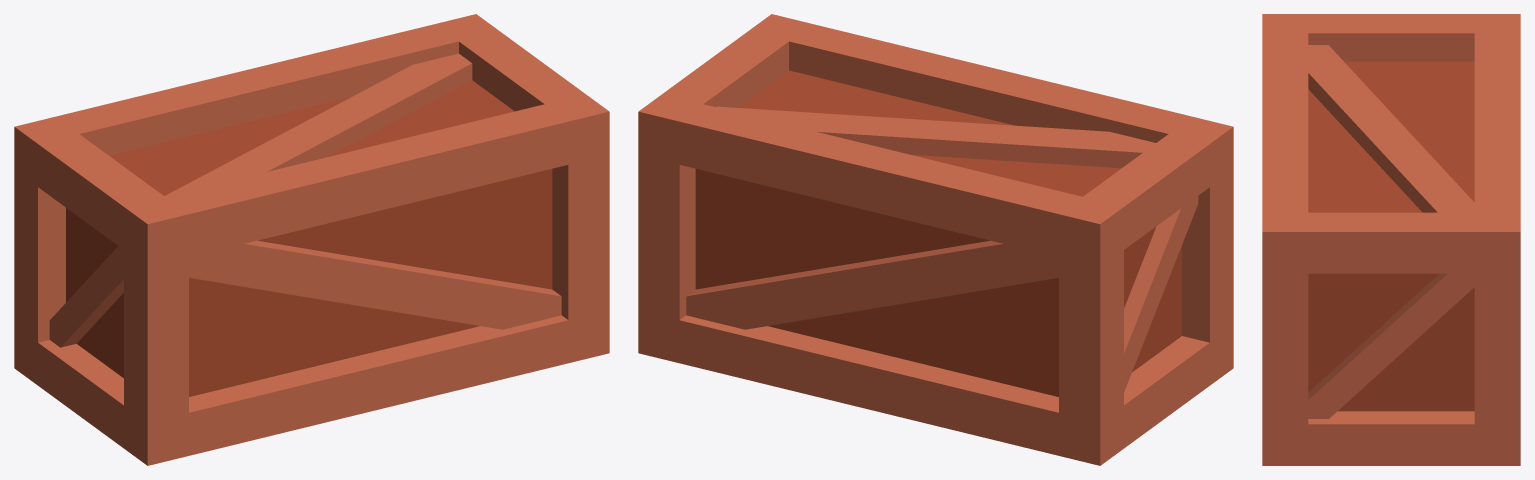
File: Crate stor.fbx
The picture shows the model from 3 angles, left to right: view 1: azimuth 30°, elevation 25°; view 2: azimuth 150°, elevation 25°; view 3: azimuth 270°, elevation 25°; orthographic projection. The views are drawn at different scales.
Visible parts, largest first — view 1: mergedBlocks; view 2: mergedBlocks; view 3: mergedBlocks.
Part boxes in pixels (box(x1,y1,x2,y2)): mergedBlocks: box(14, 14, 609, 465); mergedBlocks: box(638, 14, 1233, 465); mergedBlocks: box(1262, 14, 1520, 465).
Size of the model in its own units: 6 by 3 by 3.
